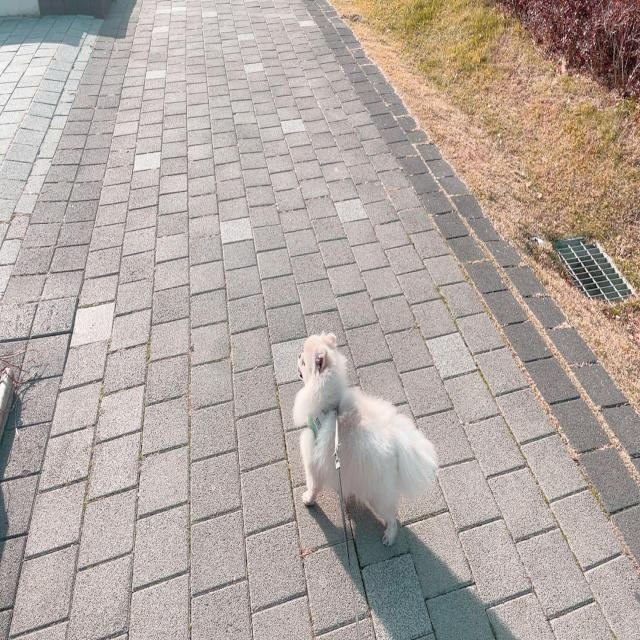Dog: (292, 330, 437, 550)
